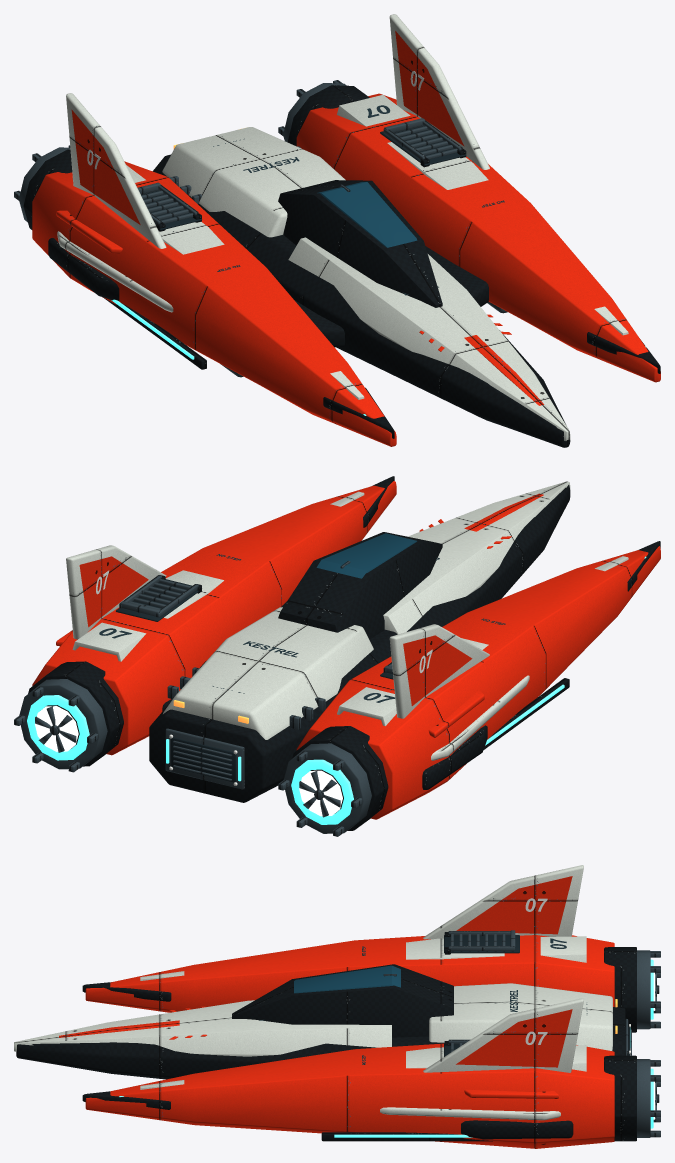
File: kestrel-player.glb
3 views of the same model, one above another, from view 1: azimuth 30°, elevation 25°; view 2: azimuth 150°, elevation 25°; view 3: azimuth 270°, elevation 25° (orthographic). The views are drawn at different scales.
Parts seen in each view (by area): view 1: Surface Solar orange, Surface Ceramic white, Surface Carbon composite, Surface Polarised canopy, Mechanism cooling_positive_x.001 Brushed titanium, Surface Brushed titanium, Mechanism cooling_negative_x.001 Brushed titanium, Surface Intake shadow, Mechanism airbrake_negative_x.001 Solar orange; view 2: Surface Solar orange, Surface Ceramic white, Surface Carbon composite, Surface Brushed titanium, Surface Ion cyan, Surface Intake shadow, Surface Polarised canopy, Surface Reactor white, Mechanism cooling_positive_x.001 Brushed titanium, Mechanism airbrake_negative_x.001 Solar orange, Surface Graphite graphics, Mechanism turbine_negative_x.001 Brushed titanium (+1 smaller); view 3: Surface Solar orange, Surface Ceramic white, Surface Carbon composite, Surface Brushed titanium, Surface Polarised canopy, Mechanism cooling_negative_x.001 Brushed titanium, Surface Intake shadow, Surface Ion cyan, Mechanism airbrake_positive_x.001 Solar orange.
Boxes of the visible parts, left/top/right/bottom form: Surface Solar orange: left=32, top=31, right=660, bottom=446; Surface Ceramic white: left=57, top=14, right=628, bottom=440; Surface Carbon composite: left=23, top=85, right=660, bottom=447; Surface Polarised canopy: left=317, top=182, right=417, bottom=247; Mechanism cooling_positive_x.001 Brushed titanium: left=383, top=118, right=462, bottom=159; Surface Brushed titanium: left=14, top=80, right=507, bottom=377; Mechanism cooling_negative_x.001 Brushed titanium: left=137, top=182, right=198, bottom=224; Surface Intake shadow: left=141, top=126, right=466, bottom=230; Mechanism airbrake_negative_x.001 Solar orange: left=56, top=210, right=122, bottom=253; Surface Solar orange: left=32, top=481, right=660, bottom=819; Surface Ceramic white: left=66, top=481, right=628, bottom=760; Surface Carbon composite: left=28, top=476, right=660, bottom=830; Surface Brushed titanium: left=14, top=561, right=371, bottom=836; Surface Ion cyan: left=27, top=556, right=646, bottom=824; Surface Intake shadow: left=116, top=579, right=393, bottom=782; Surface Polarised canopy: left=316, top=533, right=416, bottom=578; Surface Reactor white: left=35, top=706, right=342, bottom=816; Mechanism cooling_positive_x.001 Brushed titanium: left=119, top=575, right=198, bottom=617; Mechanism airbrake_negative_x.001 Solar orange: left=428, top=690, right=484, bottom=737; Surface Graphite graphics: left=99, top=554, right=505, bottom=702; Mechanism turbine_negative_x.001 Brushed titanium: left=299, top=771, right=340, bottom=817; Surface Solar orange: left=59, top=876, right=614, bottom=1148; Surface Ceramic white: left=14, top=865, right=612, bottom=1120; Surface Carbon composite: left=16, top=932, right=636, bottom=1141; Surface Brushed titanium: left=383, top=950, right=660, bottom=1137; Surface Polarised canopy: left=294, top=965, right=400, bottom=993; Mechanism cooling_negative_x.001 Brushed titanium: left=448, top=930, right=515, bottom=951; Surface Intake shadow: left=444, top=935, right=629, bottom=1056; Surface Ion cyan: left=119, top=959, right=653, bottom=1137; Mechanism airbrake_positive_x.001 Solar orange: left=464, top=1089, right=558, bottom=1098.
Bounding box in the file's own units: 4.59 × 2.07 × 7.84.
Materials: 11 (4 with a texture image).
